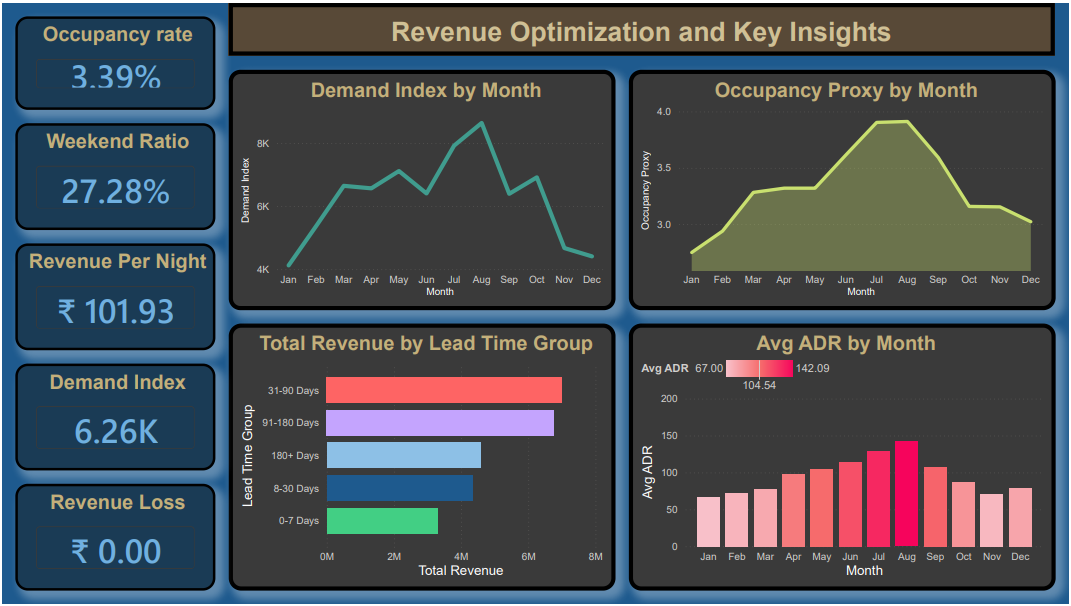

This screenshot's page, from the dashboard's own definition file:
{"tool":"powerbi","page":{"name":"Revenue Optimization & key Insights","canvas":[1280,720],"ordinal":2},"visuals":[{"type":"cardVisual","title":"Occupancy rate","fields":{"Data":["d3_measures.Occupancy Rate"]},"box":[16,16,240,112],"z":0},{"type":"cardVisual","title":"Weekend Ratio","fields":{"Data":["d3_measures.Weekend Ratio %"]},"box":[16,144,240,128],"z":1000},{"type":"cardVisual","title":"Revenue Per Night","fields":{"Data":["d3_measures.Rev_per_Night"]},"box":[16,288,240,128],"z":2000},{"type":"clusteredBarChart","title":"Total Revenue by Lead Time Group","fields":{"Category":["Sheet1.Lead Time Group"],"Y":["d3_measures.totalrev"]},"box":[272,384,464,320],"z":3000},{"type":"cardVisual","title":"Demand Index","fields":{"Data":["d3_measures.Demand Index"]},"box":[16,432,240,128],"z":4000},{"type":"cardVisual","title":"Revenue Loss","fields":{"Data":["d3_measures.Revenue Loss"]},"box":[16,576,240,128],"z":5000},{"type":"textbox","box":[271.7,0,991.7,63.3],"z":6000},{"type":"lineChart","fields":{"Y":["d3_measures.Demand Index"],"Category":["Calendar.Month"]},"box":[272,80,464,288],"z":7000},{"type":"clusteredColumnChart","fields":{"Y":["Sheet1.Avg ADR"],"Category":["Calendar.Month"]},"box":[752,384,512,320],"z":8000},{"type":"areaChart","title":"Occupancy Proxy by Month","fields":{"Category":["Calendar.Month"],"Y":["d3_measures.Occupancy_Proxy"]},"box":[752,80,512,288],"z":9000}]}

Visuals, with their boxes in screenshot pixels (x1, y1, x2, y2), scaled from the page's 1280x720 canvas onto the 1071x606 screenshot:
"Occupancy rate" cardVisual: bbox=(13, 13, 214, 108)
"Weekend Ratio" cardVisual: bbox=(13, 121, 214, 229)
"Revenue Per Night" cardVisual: bbox=(13, 242, 214, 350)
"Total Revenue by Lead Time Group" clusteredBarChart: bbox=(228, 323, 616, 593)
"Demand Index" cardVisual: bbox=(13, 364, 214, 471)
"Revenue Loss" cardVisual: bbox=(13, 485, 214, 593)
textbox: bbox=(227, 0, 1057, 53)
lineChart - d3_measures.Demand Index x Calendar.Month: bbox=(228, 67, 616, 310)
clusteredColumnChart - Sheet1.Avg ADR x Calendar.Month: bbox=(629, 323, 1058, 593)
"Occupancy Proxy by Month" areaChart: bbox=(629, 67, 1058, 310)
